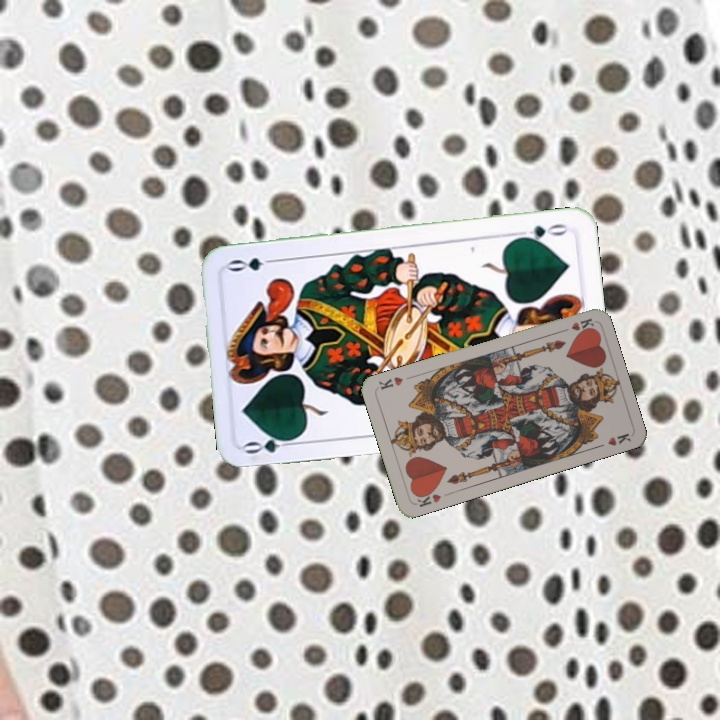GO: (241, 430, 300, 457), (512, 220, 571, 244)
HK: (555, 314, 596, 335), (412, 486, 443, 510)
